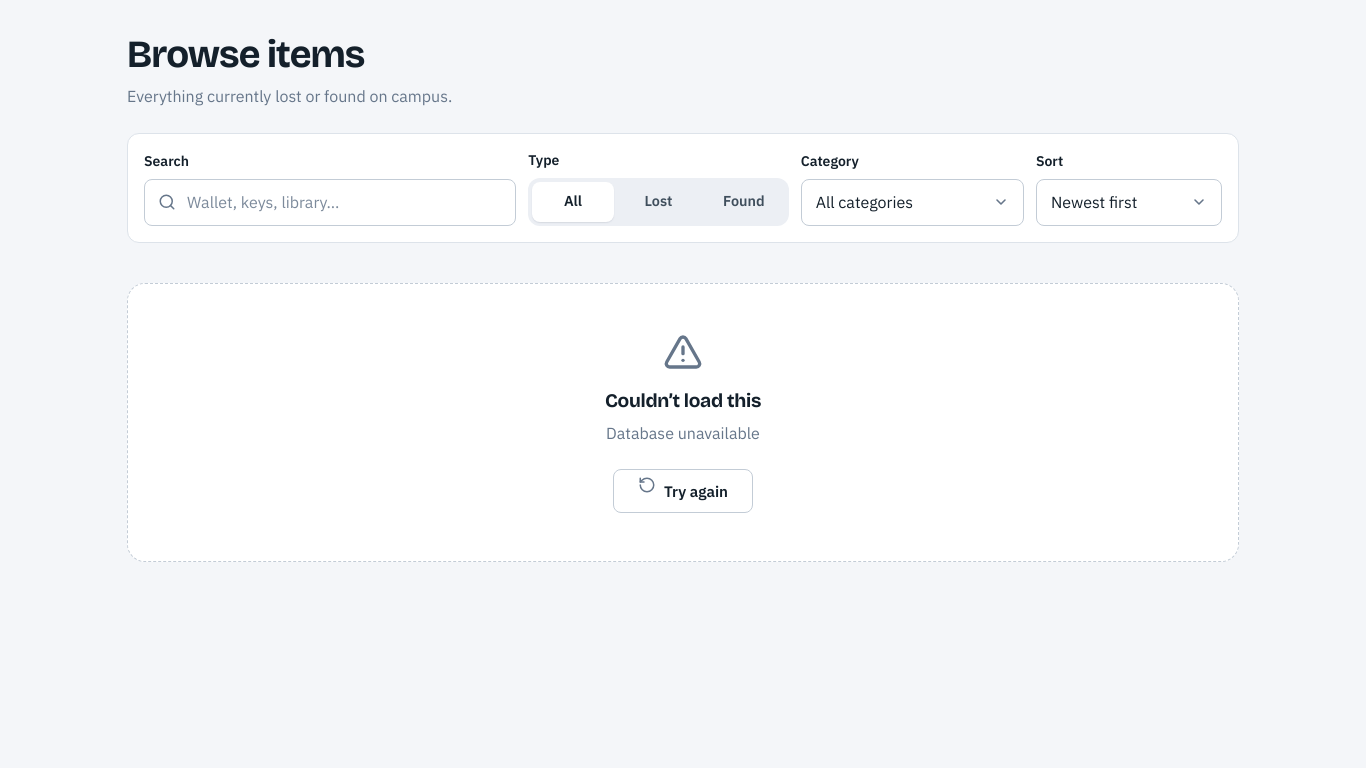
ItemList › shows an error state with a working retry
Check: the text "Database unavailable" is shown, box left=606, top=422, right=760, bottom=442
Click the button "Try again".
click(683, 491)  # box left=613, top=469, right=753, bottom=513
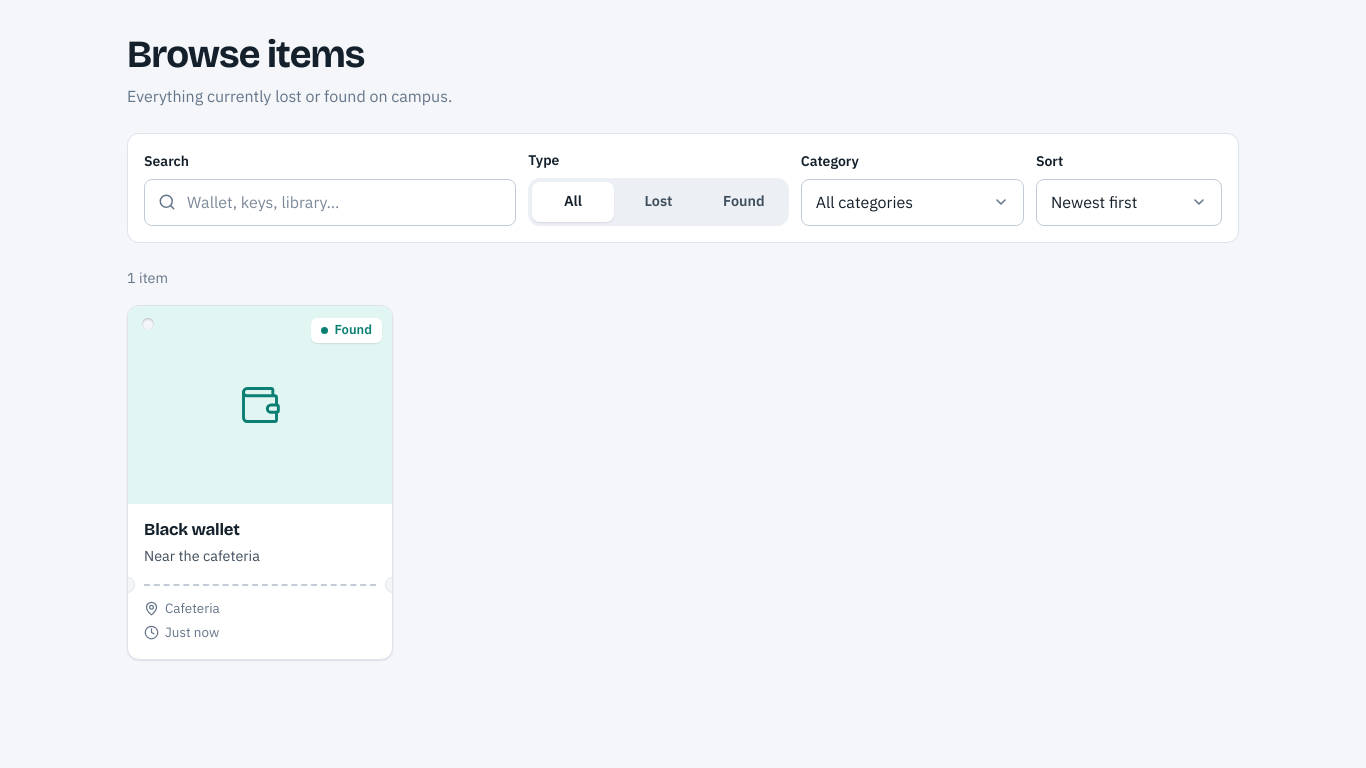
Check: the heading "Black wallet" is shown, box left=144, top=519, right=240, bottom=540
